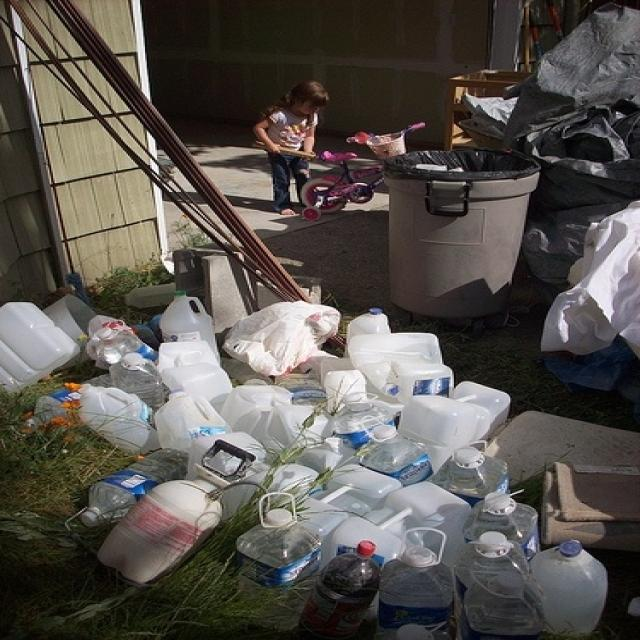Plastics: (0, 271, 628, 640), (365, 137, 555, 314)
